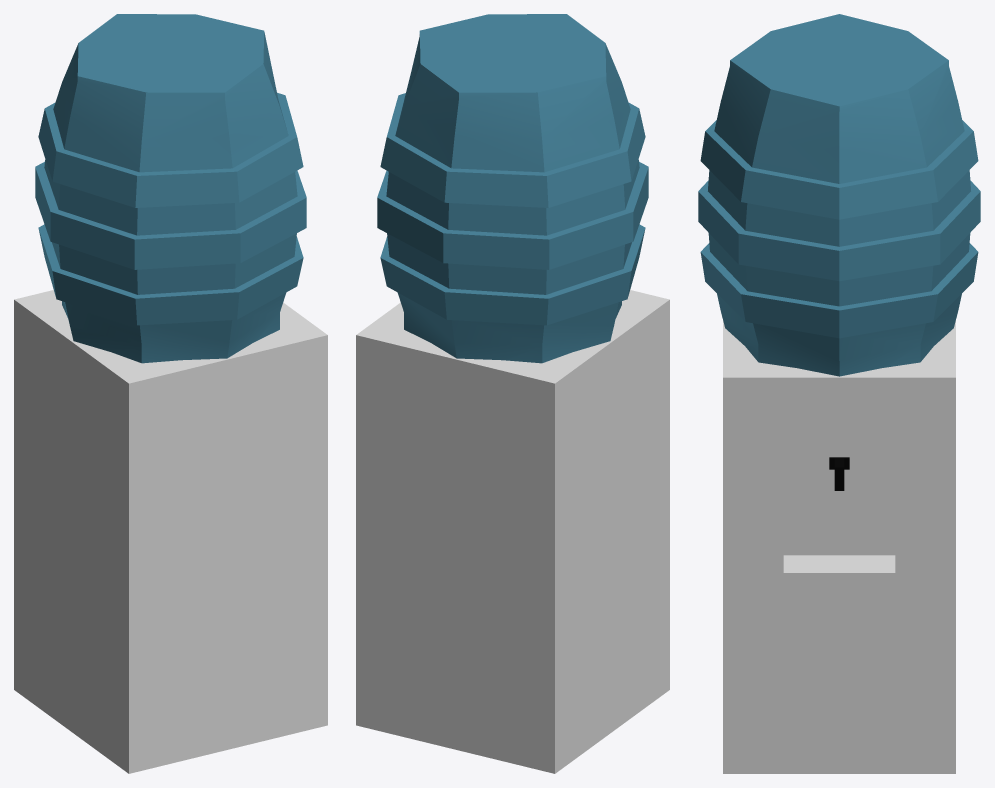
File: watercooler.fbx
The picture shows the model from 3 angles, left to right: view 1: azimuth 30°, elevation 25°; view 2: azimuth 150°, elevation 25°; view 3: azimuth 270°, elevation 25°; orthographic projection.
Parts seen in each view (by area): view 1: pCube4, pCube1; view 2: pCube4, pCube1; view 3: pCube4, pCube1, pCube5.
Part boxes in pixels (left/top/right/bottom): pCube4: left=14, top=290, right=327, bottom=773; pCube1: left=35, top=14, right=306, bottom=363; pCube4: left=356, top=290, right=669, bottom=773; pCube1: left=377, top=14, right=648, bottom=363; pCube4: left=723, top=320, right=955, bottom=773; pCube1: left=698, top=14, right=980, bottom=376; pCube5: left=829, top=457, right=849, bottom=490.
Bounding box in the file's own units: 0.9688 × 2.51 × 0.9688.
